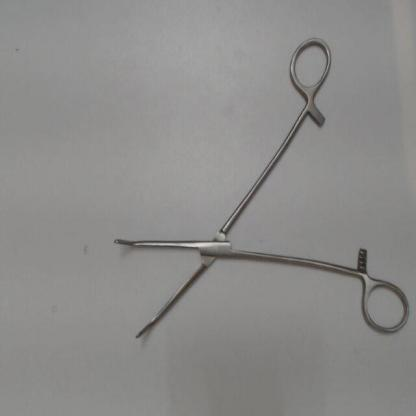Lahey Forceps: (104, 32, 412, 347)
